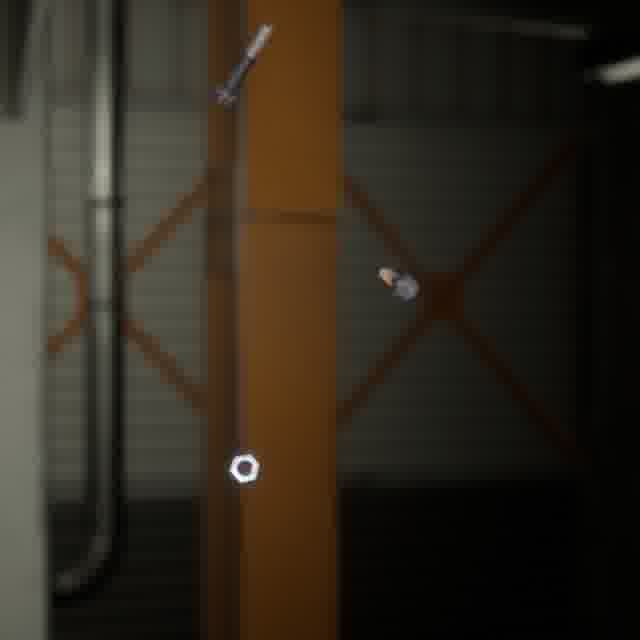bolt: (206, 18, 278, 112), (374, 262, 423, 307)
nut: (224, 449, 264, 489)
